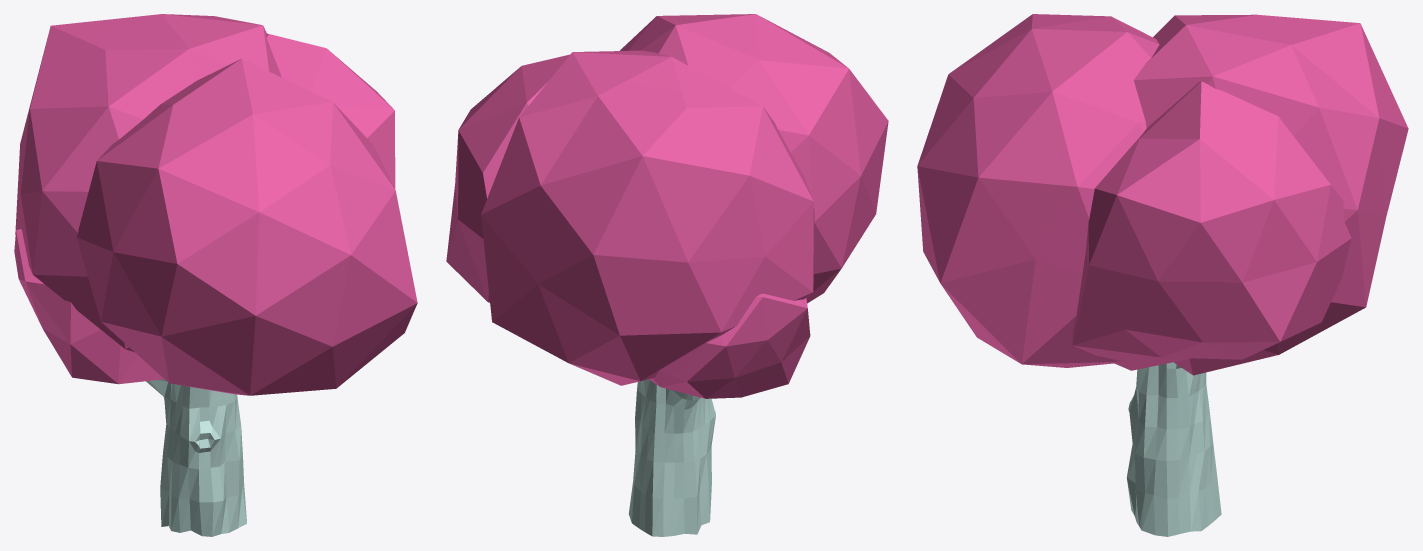
The model's file is pinkTree.glb.
The picture shows the model from 3 angles, left to right: view 1: azimuth 30°, elevation 25°; view 2: azimuth 150°, elevation 25°; view 3: azimuth 270°, elevation 25°; orthographic projection. The views are drawn at different scales.
Visible parts, largest first — view 1: Icosphere, Cylinder; view 2: Icosphere, Cylinder; view 3: Icosphere, Cylinder.
Part boxes in pixels (x1,y1,x2,y2): Icosphere: (14,14,417,395); Cylinder: (146,379,246,536); Icosphere: (446,14,888,398); Cylinder: (628,379,715,536); Icosphere: (917,14,1408,375); Cylinder: (1126,362,1221,536).
Size of the model in its own units: 16.5 by 21.82 by 19.57.
